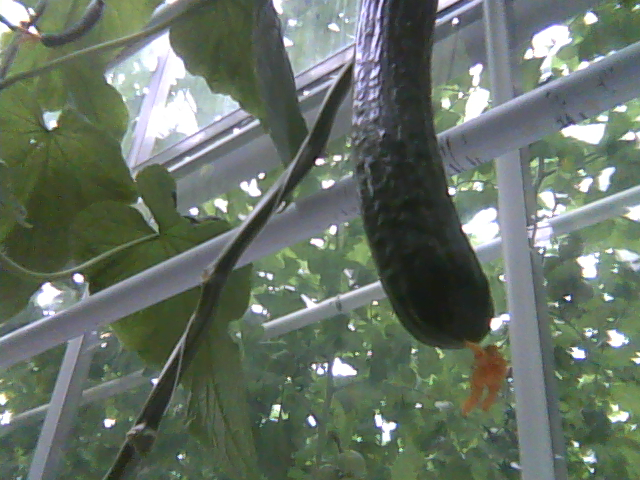concombre: (347, 1, 511, 413)
